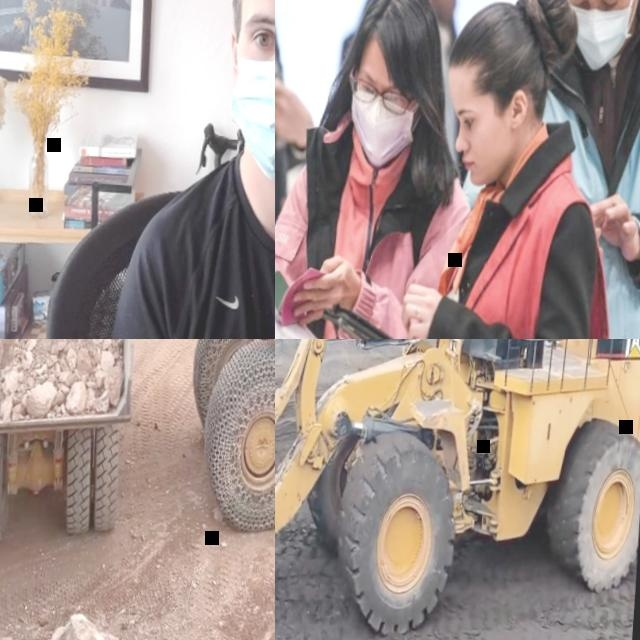Mask: (224, 29, 275, 189), (553, 0, 640, 76), (345, 91, 419, 169)
NO-Hardhat: (443, 0, 556, 85), (361, 0, 442, 61)
NO-Mask: (462, 138, 510, 186), (432, 0, 459, 20)
NO-Safety Vest: (519, 0, 640, 339), (411, 165, 605, 339), (285, 155, 453, 339), (150, 153, 275, 339)
Person: (346, 0, 634, 339), (275, 0, 486, 339), (84, 0, 275, 339), (512, 0, 640, 339), (275, 0, 340, 339), (396, 0, 465, 38)
machinery: (275, 339, 640, 640), (22, 339, 275, 558), (0, 339, 147, 564)
